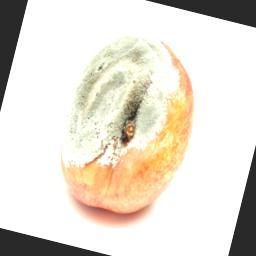Peach Rotten: (40, 20, 214, 236)
